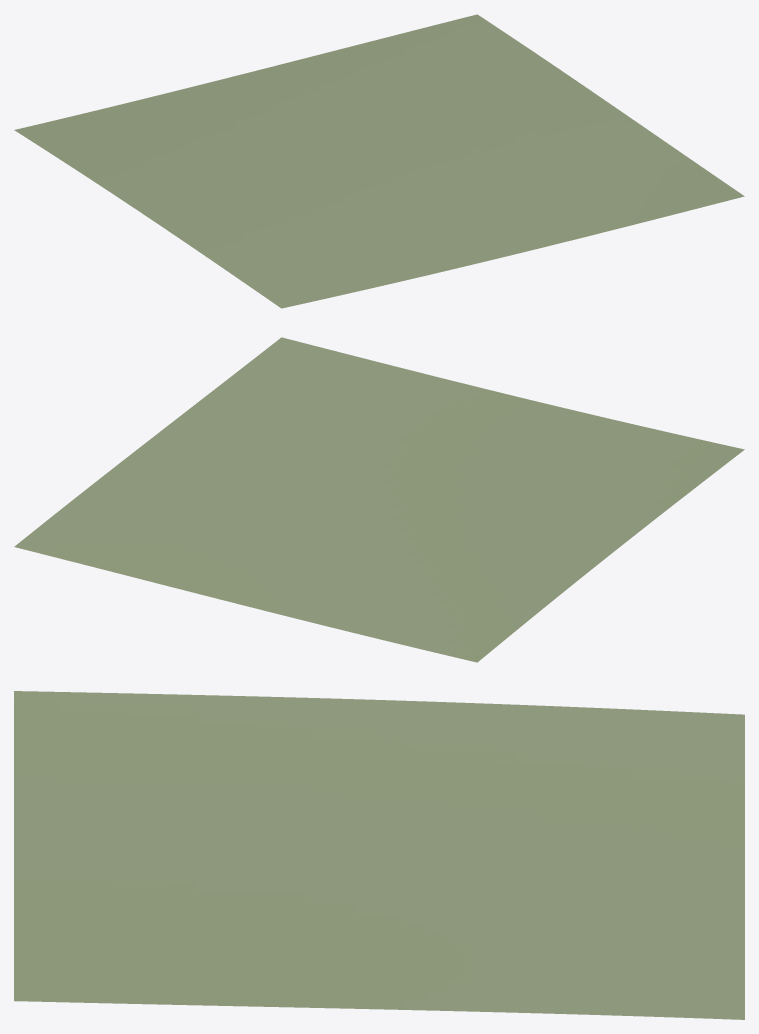
Rendered from expanse-3-10.glb.
3 views of the same model, one above another, from view 1: azimuth 30°, elevation 25°; view 2: azimuth 150°, elevation 25°; view 3: azimuth 270°, elevation 25° (orthographic). The views are drawn at different scales.
Parts seen in each view (by area): view 1: expanse-3-10; view 2: expanse-3-10; view 3: expanse-3-10.
Boxes of the visible parts, x1,y1,x2,y2 form: expanse-3-10: (14, 14, 744, 308); expanse-3-10: (14, 337, 744, 662); expanse-3-10: (14, 691, 744, 1019).
Size of the model in its own units: 256 by 9.4 by 256.
